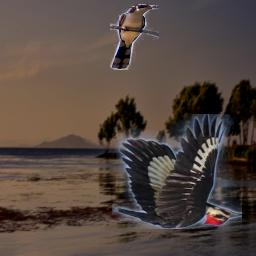Cuckoo: (110, 4, 159, 70)
Woodpecker: (112, 114, 242, 229)
